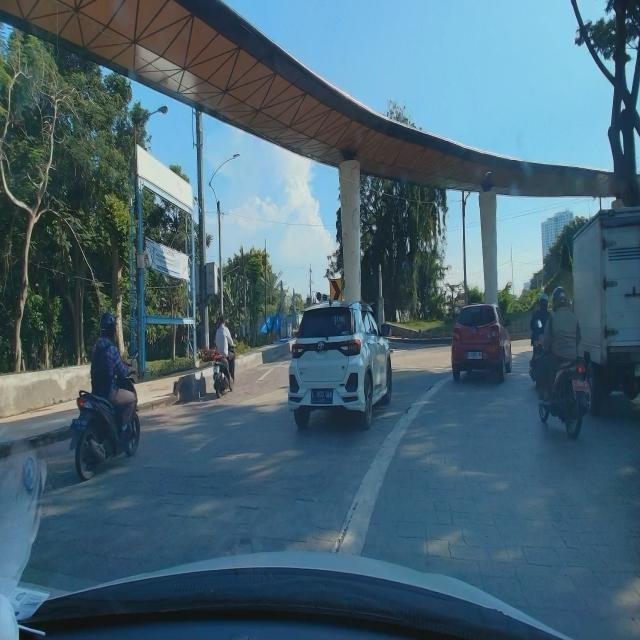car: (287, 298, 393, 430), (451, 300, 513, 383)
license-plate: (311, 389, 333, 403), (467, 351, 482, 360)
